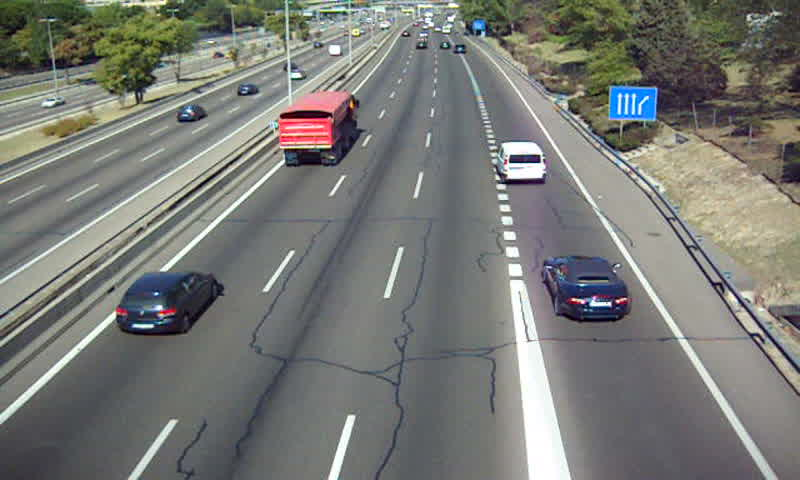car: (115, 271, 218, 335), (541, 256, 632, 319)
truck: (277, 90, 356, 165)
van: (495, 141, 547, 184)
